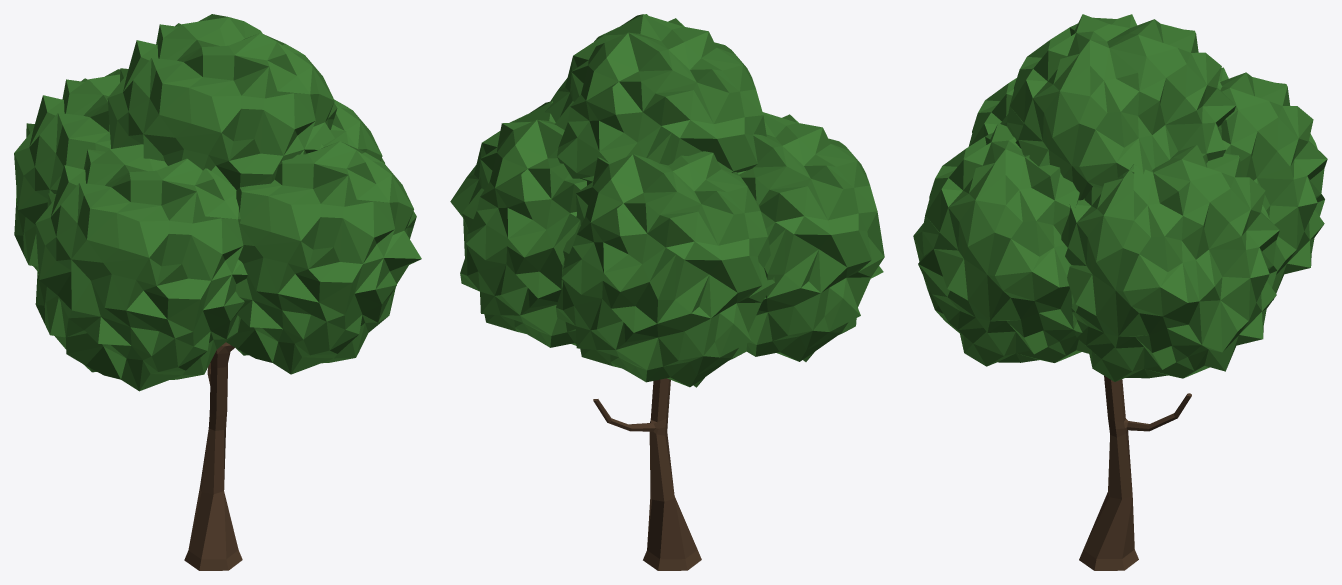
File: tree 4.fbx
3 renders of one model, left to right at view 1: azimuth 30°, elevation 25°; view 2: azimuth 150°, elevation 25°; view 3: azimuth 270°, elevation 25°, orthographic. The views are drawn at different scales.
Visible parts, largest first — view 1: LowPoly Tree .036; view 2: LowPoly Tree .036; view 3: LowPoly Tree .036.
Boxes of the visible parts, x1,y1,x2,y2 form: LowPoly Tree .036: (14,14,421,570); LowPoly Tree .036: (450,14,884,570); LowPoly Tree .036: (913,14,1327,570).
Bounding box in the file's own units: 114 × 156 × 108.
